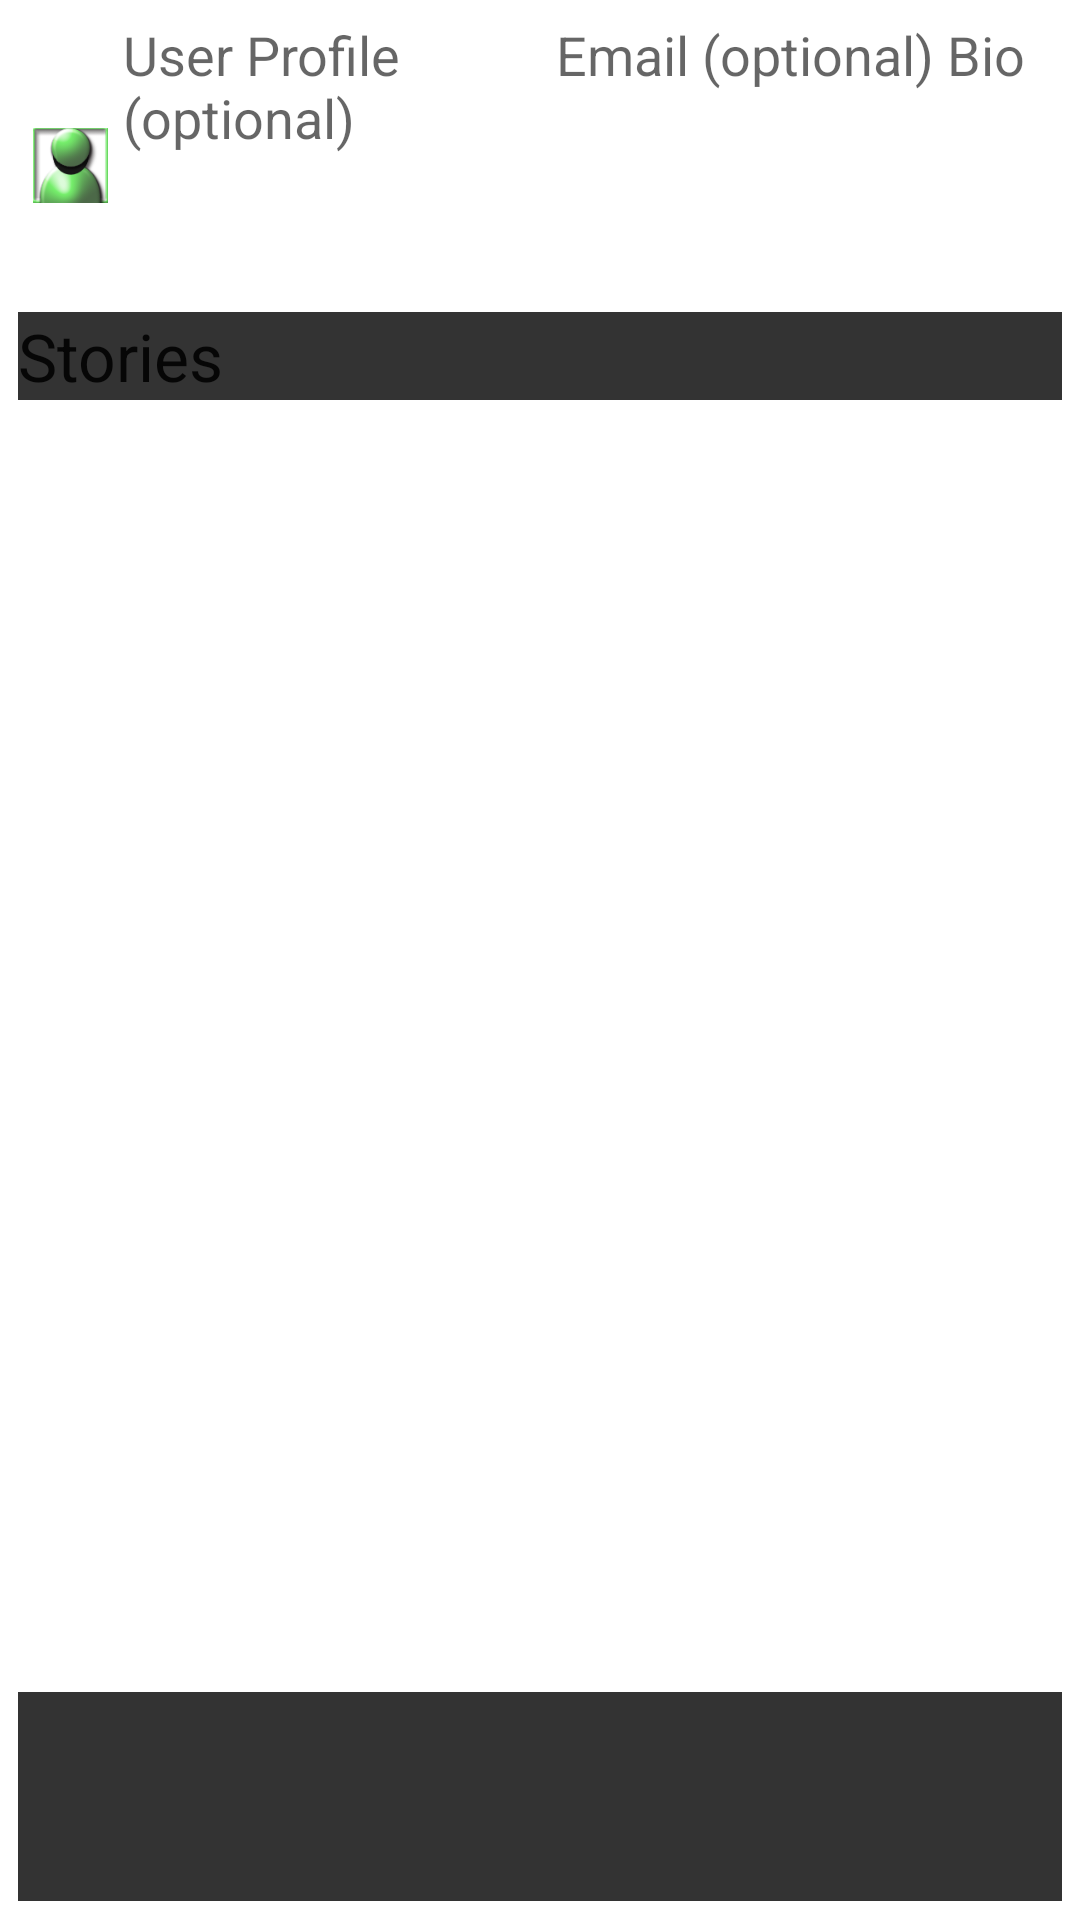

Icon click points for this 1080 x 1920 phone screenshot, format (x=x, y=y):
user profile main: (x=70, y=165)
